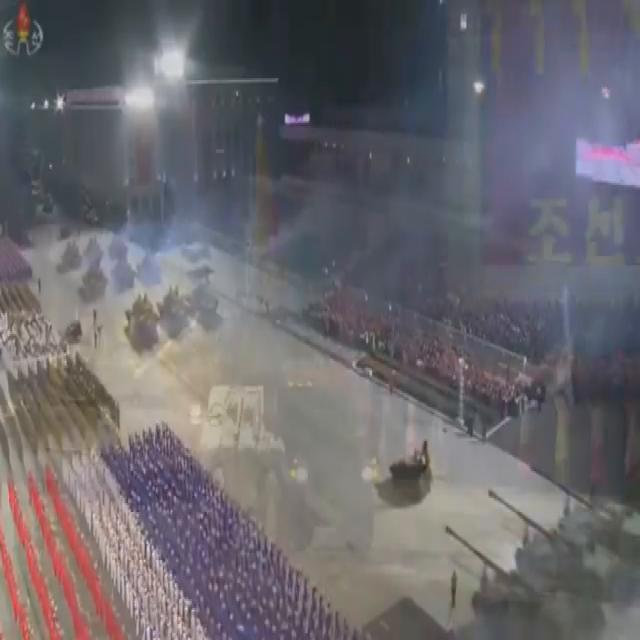north tank: (447, 516, 577, 640), (488, 475, 594, 617)
